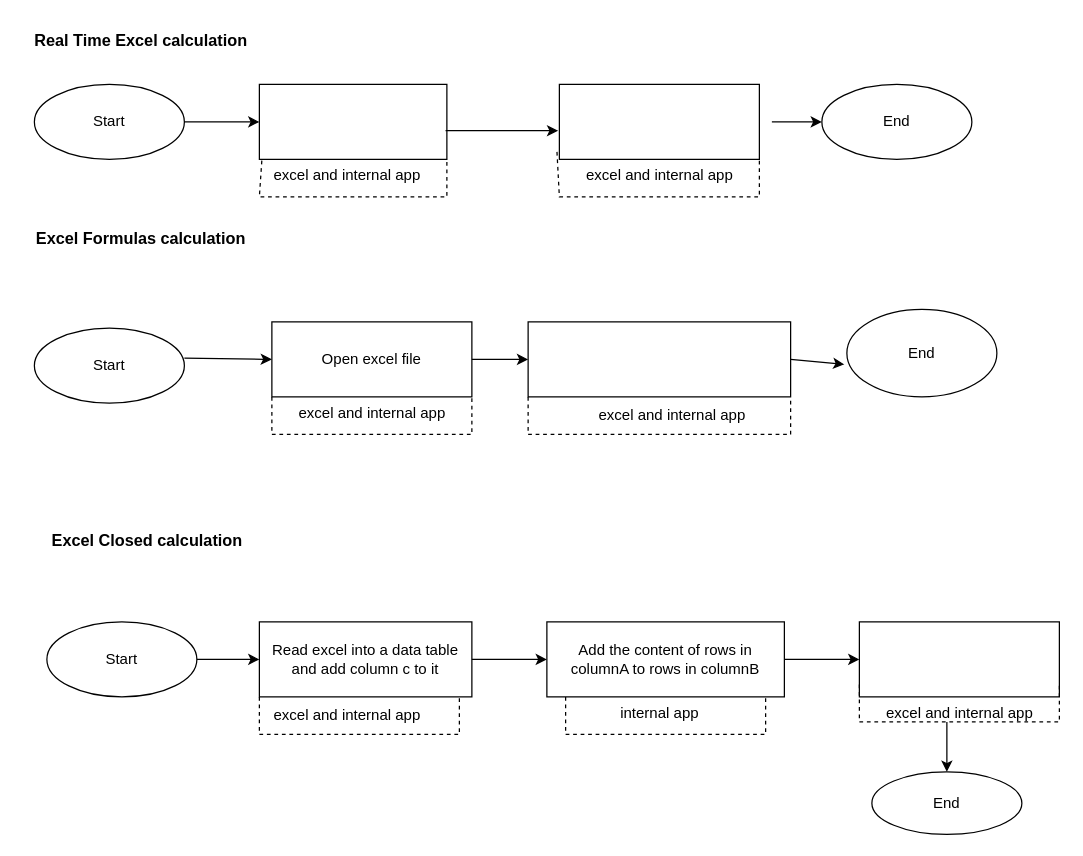
This 1083x856 diagram has some shape labels left out. The shapes that lost their labels are listed below. From the top down, each one's centre as x and y in pixels, then its label:
(352,121): Open the excel file
(658,121): write the sum of column A + columnB on columnC
(659,359): Fill the range of column c with sums of rows in columnA +rows in columnB
(958,659): Save datatable into a new excel file
